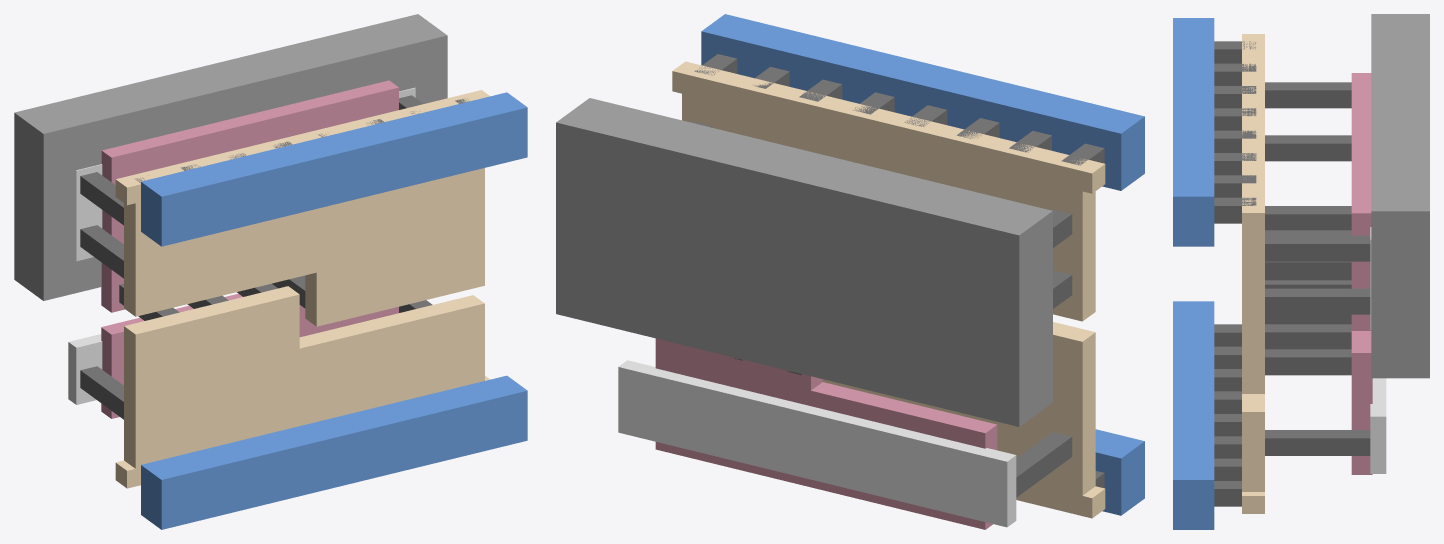
Rendered from sky130_fd_sc_hd__decap_8.gds.gltf.
The picture shows the model from 3 angles, left to right: view 1: azimuth 30°, elevation 25°; view 2: azimuth 150°, elevation 25°; view 3: azimuth 270°, elevation 25°; orthographic projection. The views are drawn at different scales.
Parts seen in each view (by area): view 1: sky130_fd_sc_hd__decap_8_li1, sky130_fd_sc_hd__decap_8_met1, sky130_fd_sc_hd__decap_8_nwell, sky130_fd_sc_hd__decap_8_poly, sky130_fd_sc_hd__decap_8_licon, sky130_fd_sc_hd__decap_8_diff; view 2: sky130_fd_sc_hd__decap_8_nwell, sky130_fd_sc_hd__decap_8_li1, sky130_fd_sc_hd__decap_8_diff, sky130_fd_sc_hd__decap_8_met1, sky130_fd_sc_hd__decap_8_poly, sky130_fd_sc_hd__decap_8_mcon, sky130_fd_sc_hd__decap_8_licon; view 3: sky130_fd_sc_hd__decap_8_licon, sky130_fd_sc_hd__decap_8_nwell, sky130_fd_sc_hd__decap_8_met1, sky130_fd_sc_hd__decap_8_mcon, sky130_fd_sc_hd__decap_8_li1, sky130_fd_sc_hd__decap_8_poly, sky130_fd_sc_hd__decap_8_diff.
Boxes of the visible parts, left/top/right/bottom form: sky130_fd_sc_hd__decap_8_li1: left=115, top=90, right=489, bottom=488; sky130_fd_sc_hd__decap_8_met1: left=141, top=92, right=527, bottom=529; sky130_fd_sc_hd__decap_8_nwell: left=14, top=14, right=447, bottom=300; sky130_fd_sc_hd__decap_8_poly: left=101, top=80, right=398, bottom=418; sky130_fd_sc_hd__decap_8_licon: left=80, top=95, right=432, bottom=419; sky130_fd_sc_hd__decap_8_diff: left=68, top=87, right=415, bottom=404; sky130_fd_sc_hd__decap_8_nwell: left=556, top=98, right=1052, bottom=426; sky130_fd_sc_hd__decap_8_li1: left=672, top=61, right=1105, bottom=518; sky130_fd_sc_hd__decap_8_diff: left=618, top=360, right=1016, bottom=527; sky130_fd_sc_hd__decap_8_met1: left=701, top=14, right=1144, bottom=515; sky130_fd_sc_hd__decap_8_poly: left=655, top=338, right=997, bottom=529; sky130_fd_sc_hd__decap_8_mcon: left=694, top=54, right=1104, bottom=488; sky130_fd_sc_hd__decap_8_licon: left=691, top=121, right=1072, bottom=497; sky130_fd_sc_hd__decap_8_licon: left=1265, top=82, right=1370, bottom=455; sky130_fd_sc_hd__decap_8_nwell: left=1371, top=14, right=1429, bottom=378; sky130_fd_sc_hd__decap_8_met1: left=1173, top=18, right=1214, bottom=529; sky130_fd_sc_hd__decap_8_mcon: left=1214, top=41, right=1256, bottom=506; sky130_fd_sc_hd__decap_8_li1: left=1242, top=34, right=1264, bottom=513; sky130_fd_sc_hd__decap_8_poly: left=1351, top=73, right=1372, bottom=474; sky130_fd_sc_hd__decap_8_diff: left=1370, top=227, right=1386, bottom=473.
Bounding box in the file's own units: 4.06 × 3.2 × 2.24.
